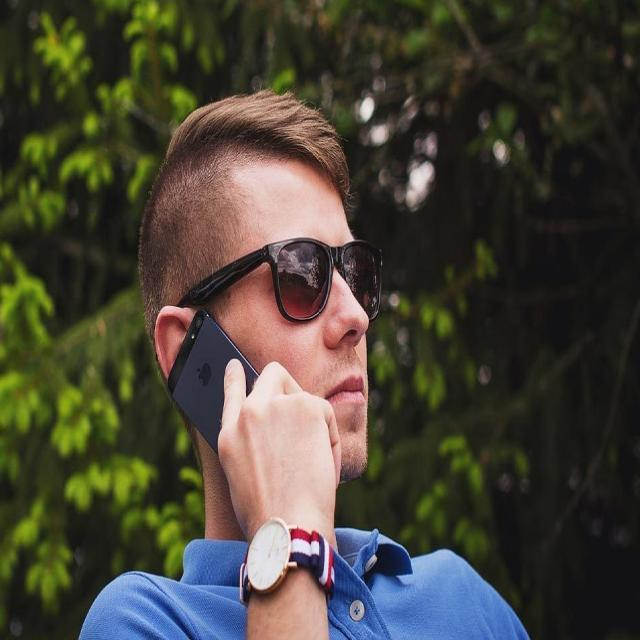phone: (167, 304, 258, 455)
